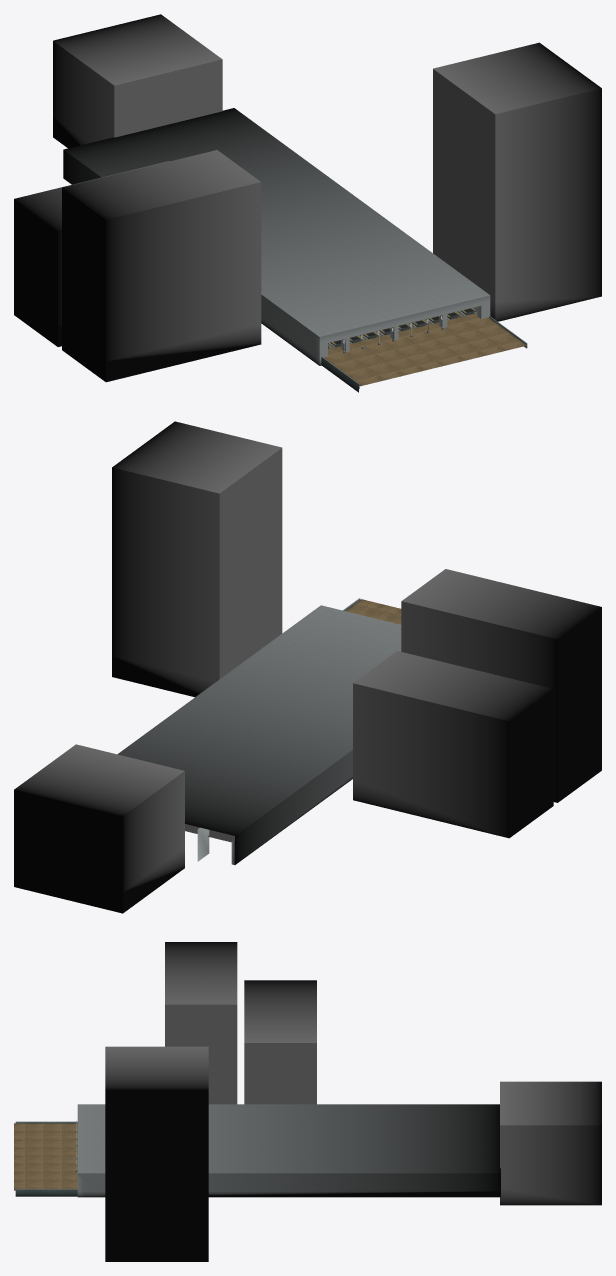
Rendered from UMEDA_KOUBE.glb.
3 renders of one model, top to bottom at view 1: azimuth 30°, elevation 25°; view 2: azimuth 150°, elevation 25°; view 3: azimuth 270°, elevation 25°, orthographic. The views are drawn at different scales.
Visible parts, largest first — view 1: obj16; view 2: obj16; view 3: obj16.
Boxes of the visible parts, x1=… form: obj16: x1=14, y1=14, x2=601, y2=392; obj16: x1=14, y1=421, x2=601, y2=913; obj16: x1=14, y1=942, x2=601, y2=1261.
Bounding box in the file's own units: 593 × 256 × 794.
Materials: 20 (20 with a texture image).
